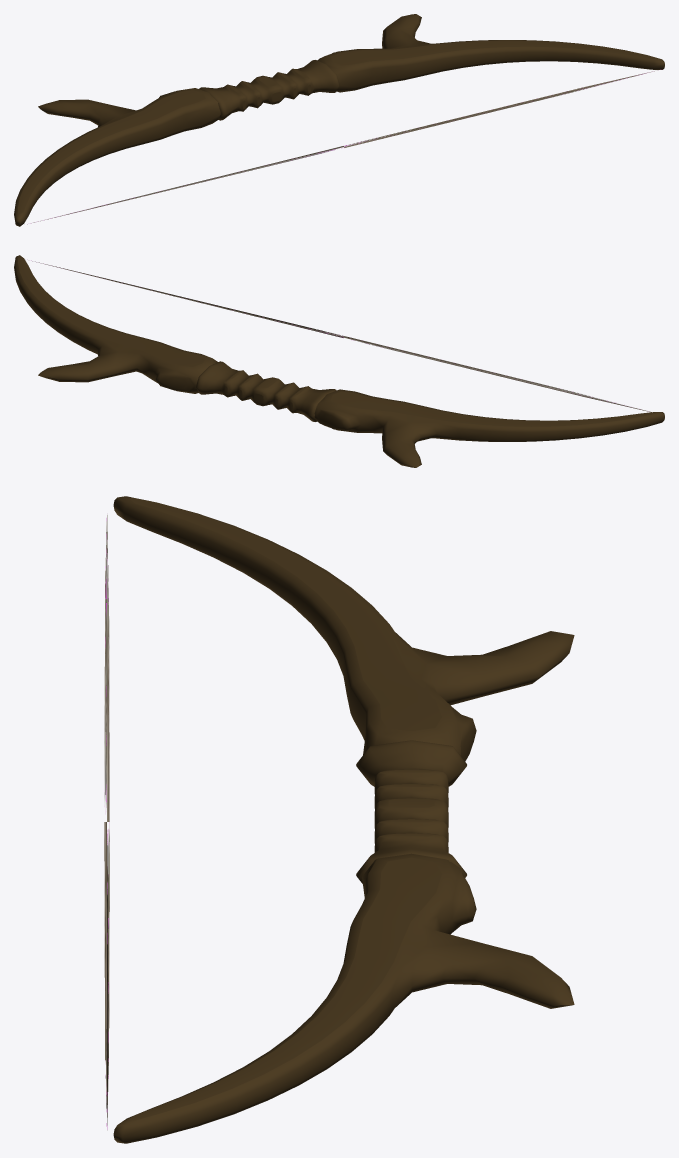
Rendered from bow.fbx.
3 views of the same model, one above another, from view 1: azimuth 30°, elevation 25°; view 2: azimuth 150°, elevation 25°; view 3: azimuth 270°, elevation 25° (orthographic). The views are drawn at different scales.
Parts seen in each view (by area): view 1: Subdivision_Surface, str; view 2: Subdivision_Surface, str; view 3: Subdivision_Surface, str.
Boxes of the visible parts, <box> form: Subdivision_Surface: <box>14,14,664,226</box>; str: <box>27,69,660,224</box>; Subdivision_Surface: <box>14,255,664,467</box>; str: <box>31,260,651,412</box>; Subdivision_Surface: <box>113,496,574,1143</box>; str: <box>104,515,109,1130</box>.
Bounding box in the file's own units: 1907 × 71.96 × 598.
Materials: 2 (1 with a texture image).
